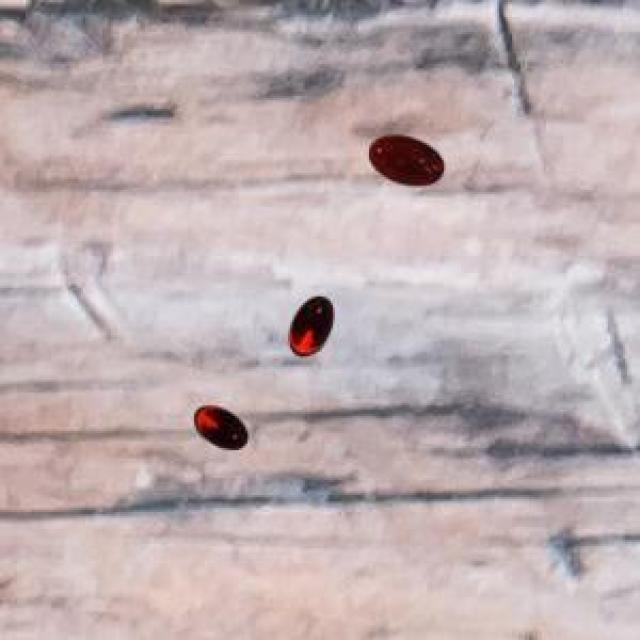Medicol: (360, 124, 456, 194), (277, 286, 344, 364), (190, 397, 257, 458)
